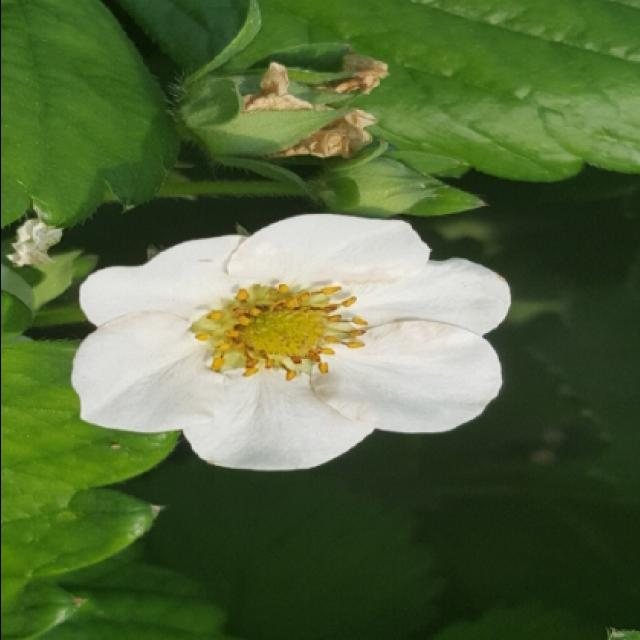Blossom Blight: (187, 281, 373, 388)
